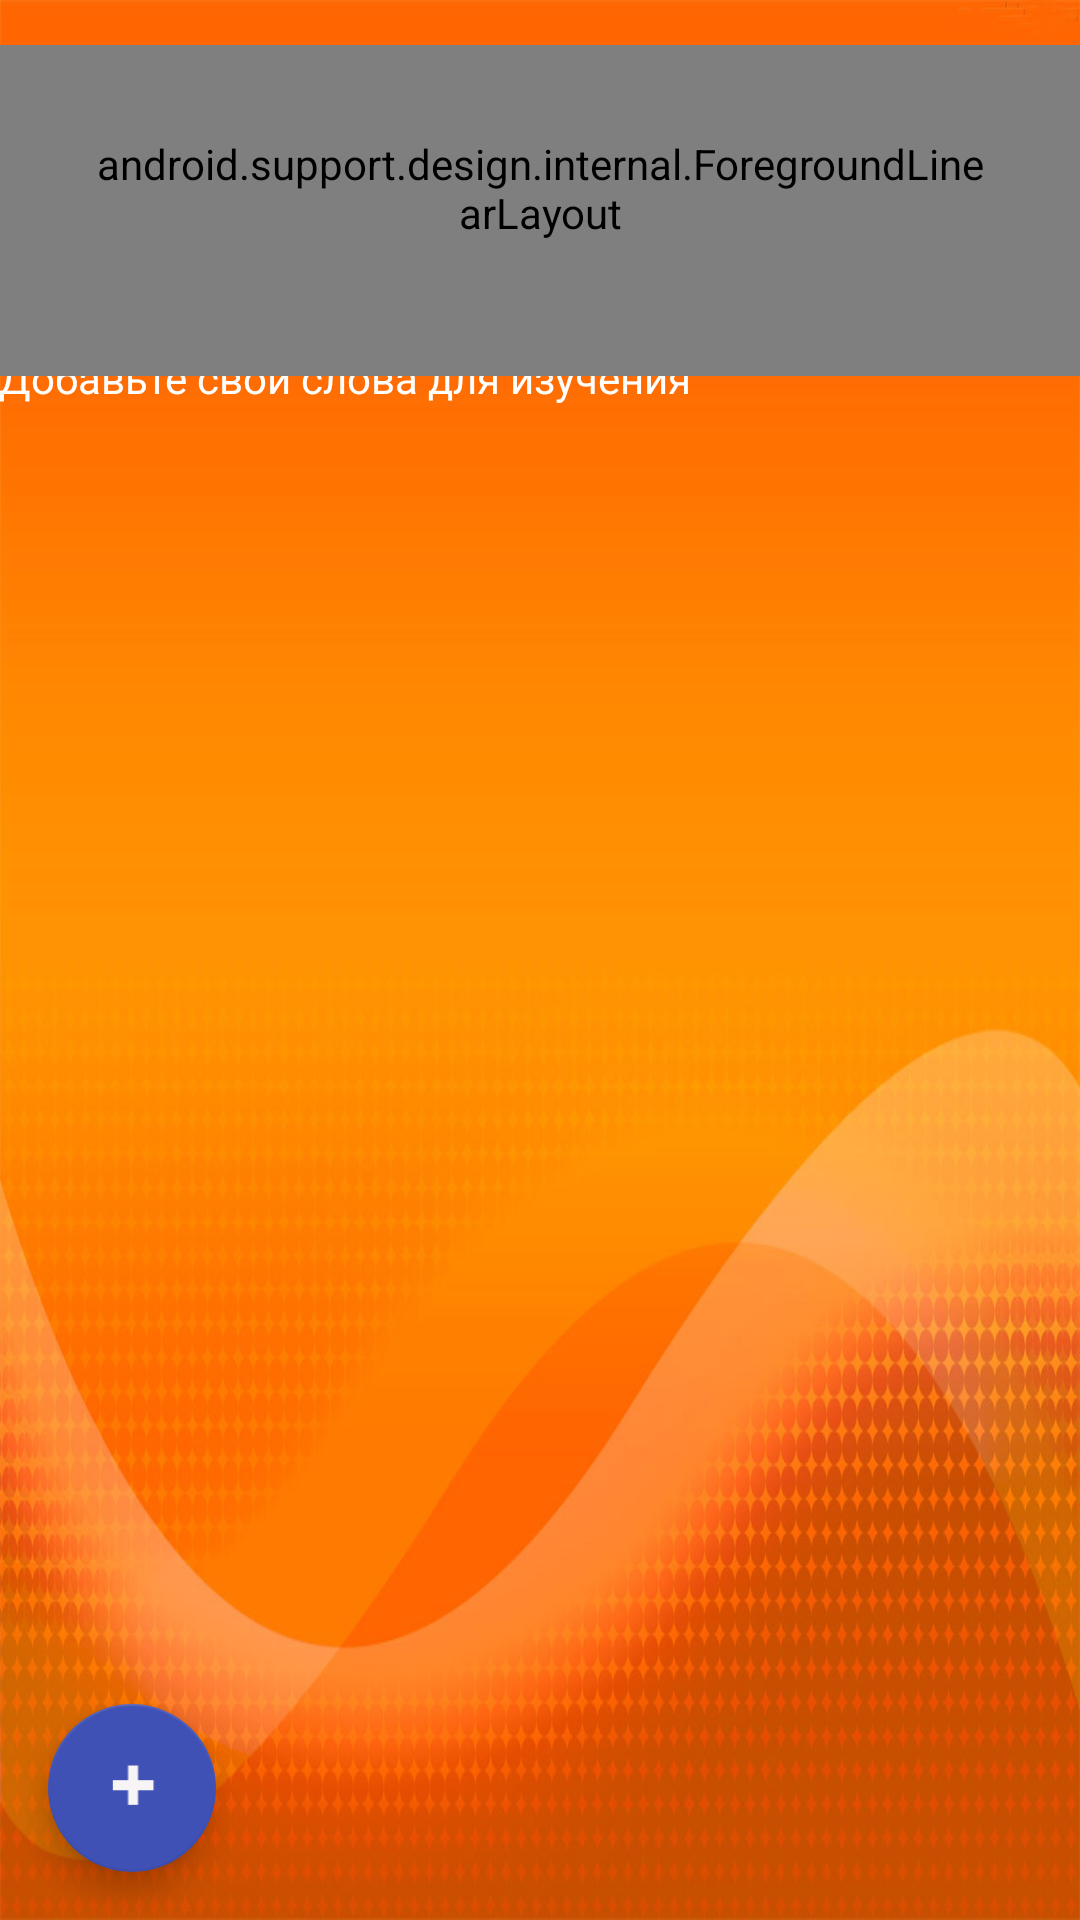

Where to tap for icons on this 1080*1920 app screen, as point (x, y):
plus: point (132, 1788)
